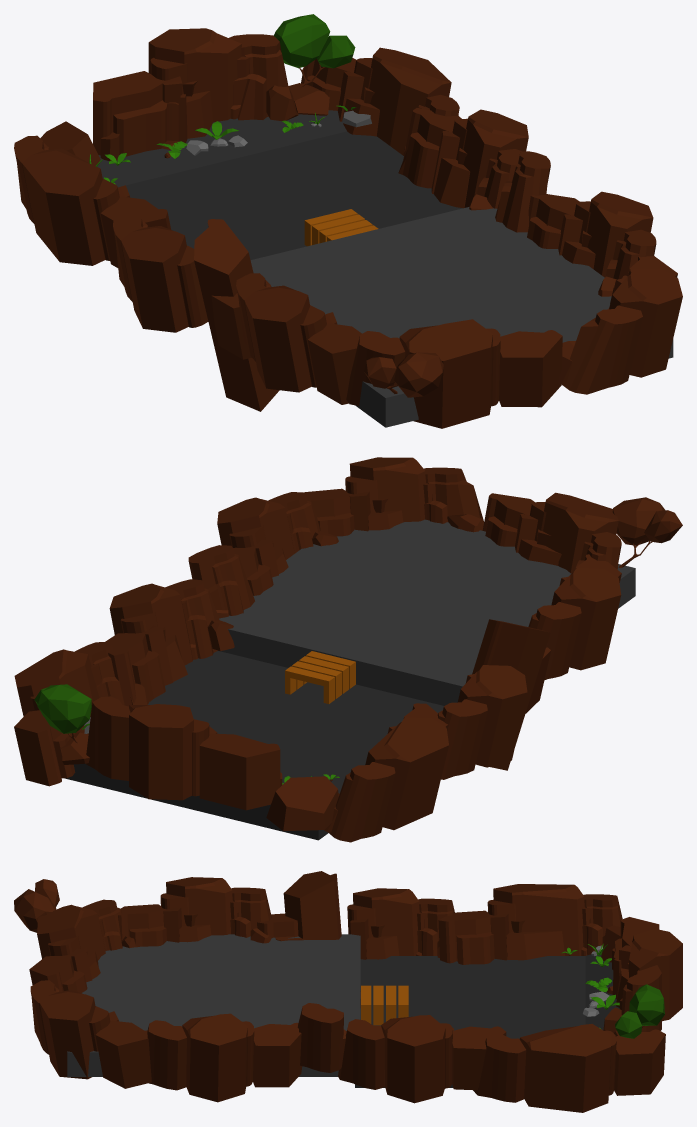
File: environment.fbx
3 renders of one model, top to bottom at view 1: azimuth 30°, elevation 25°; view 2: azimuth 150°, elevation 25°; view 3: azimuth 270°, elevation 25°, orthographic. The views are drawn at different scales.
Parts seen in each view (by area): view 1: ground; view 2: ground; view 3: ground.
Part boxes in pixels (x1,y1,x2,y2): ground: (14,14,682,428); ground: (14,457,682,842); ground: (14,871,682,1112).
Bounding box in the file's own units: 1297 × 530 × 2114.
